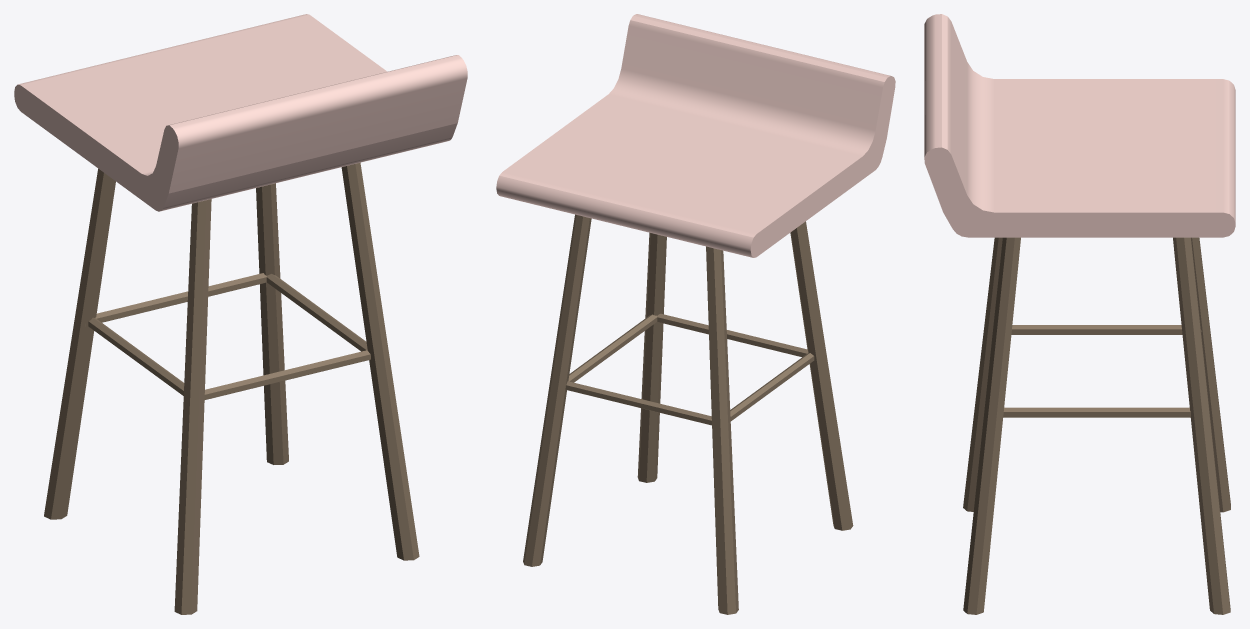
Rendered from HighChair1.fbx.
3 renders of one model, left to right at view 1: azimuth 30°, elevation 25°; view 2: azimuth 150°, elevation 25°; view 3: azimuth 270°, elevation 25°, orthographic. The views are drawn at different scales.
Parts seen in each view (by area): view 1: polySurface937; view 2: polySurface937; view 3: polySurface937.
Part boxes in pixels (x1,y1,x2,y2): polySurface937: (14, 14, 467, 614); polySurface937: (496, 14, 895, 614); polySurface937: (924, 14, 1235, 614).
Bounding box in the file's own units: 54.39 × 90.9 × 53.62.
